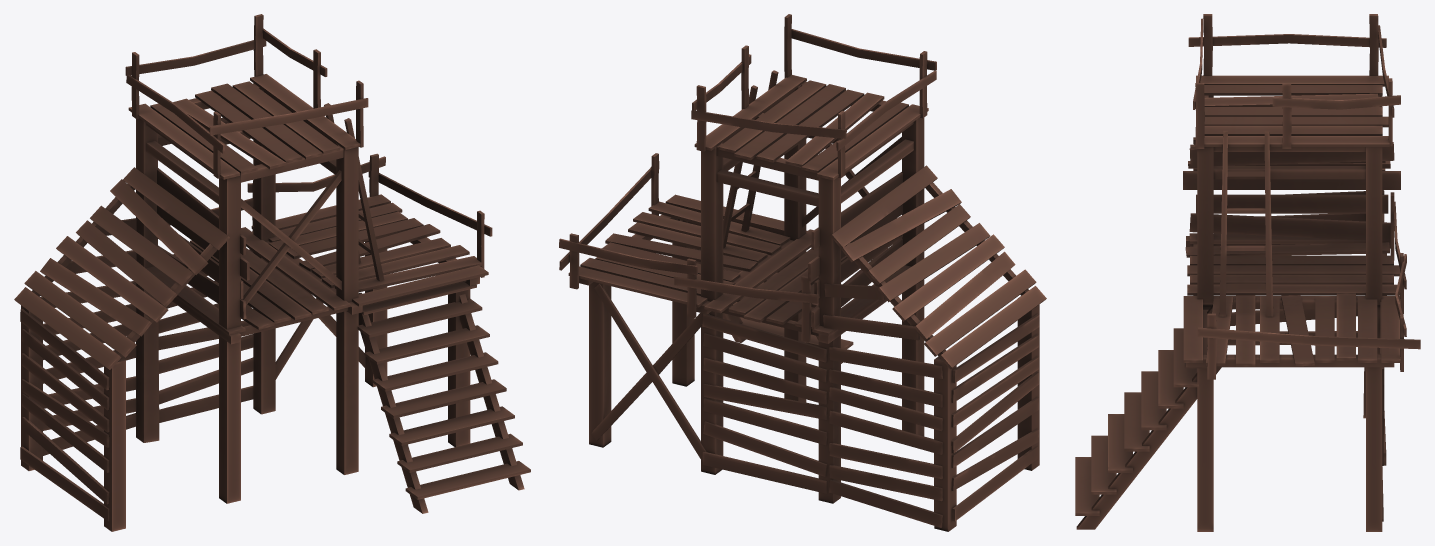
File: Construction.fbx
3 views of the same model, side by side, from view 1: azimuth 30°, elevation 25°; view 2: azimuth 150°, elevation 25°; view 3: azimuth 270°, elevation 25° (orthographic).
Visible parts, largest first — view 1: Construction; view 2: Construction; view 3: Construction.
Part boxes in pixels (<box>): Construction: <box>14,14,530,531</box>; Construction: <box>559,14,1046,531</box>; Construction: <box>1075,14,1420,531</box>.
Size of the model in its own units: 177 by 170 by 135.
